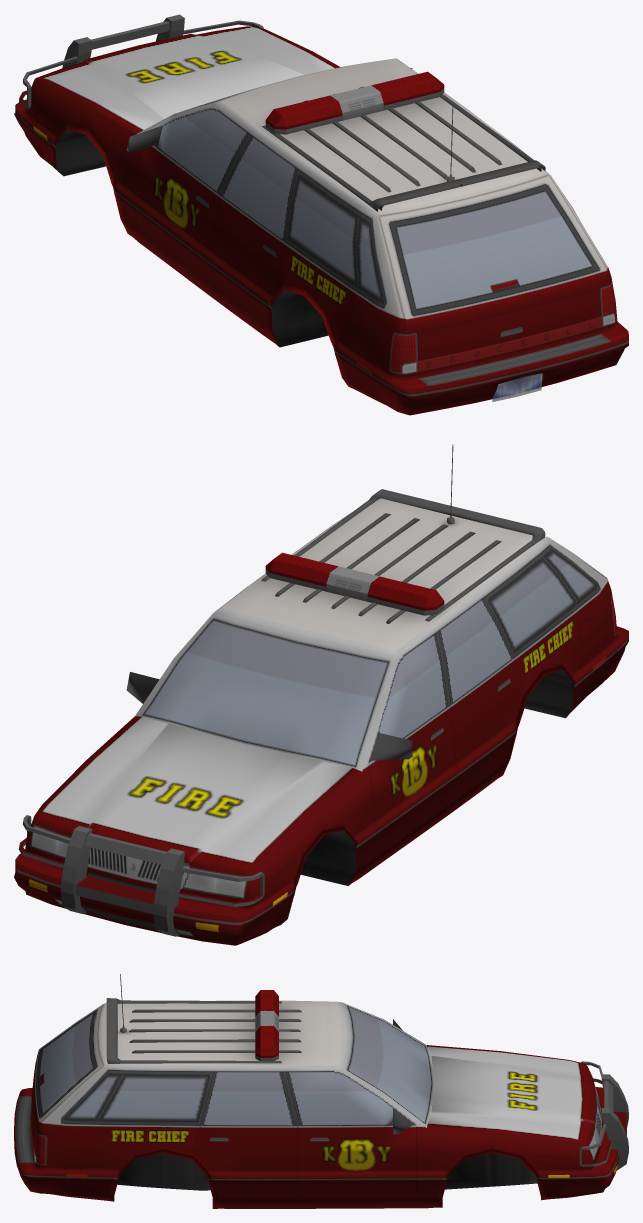
Rendered from LeGranFire.fbx.
3 renders of one model, top to bottom at view 1: azimuth 30°, elevation 25°; view 2: azimuth 150°, elevation 25°; view 3: azimuth 270°, elevation 25°, orthographic. The views are drawn at different scales.
Parts seen in each view (by area): view 1: LeGran; view 2: LeGran; view 3: LeGran.
Part boxes in pixels (x1,y1,x2,y2): LeGran: (14,14,628,415); LeGran: (14,444,628,945); LeGran: (14,974,628,1208).
Bounding box in the file's own units: 2.48 × 2.17 × 6.23.
